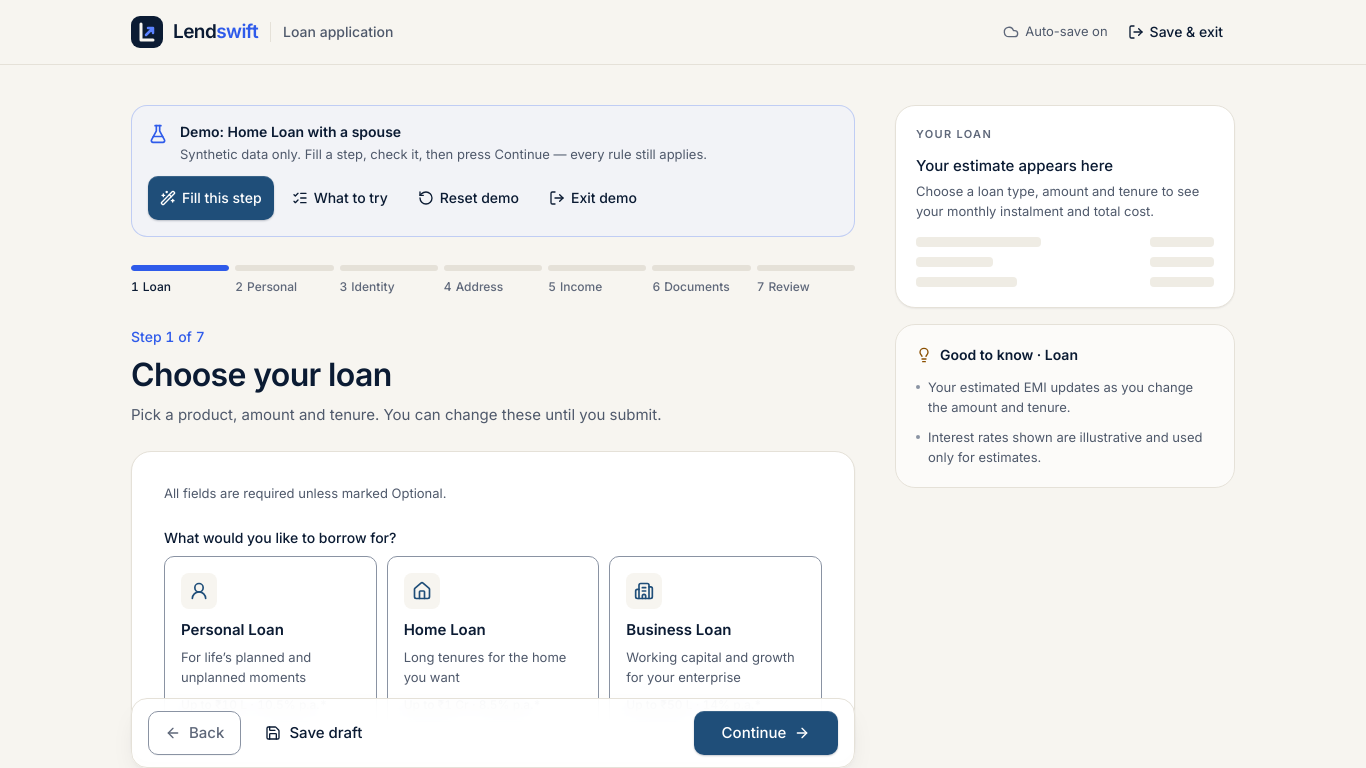
Test case: ApplicationWorkspace › shows the demo bar with its guide and a confirmed reset while a demo runs
This screenshot has width=1366, height=768.
Expected: the text "Demo: Home Loan with a spouse" is shown, left=180, top=123, right=401, bottom=140
Click the button "What to try" at [340, 198], box left=280, top=176, right=400, bottom=220
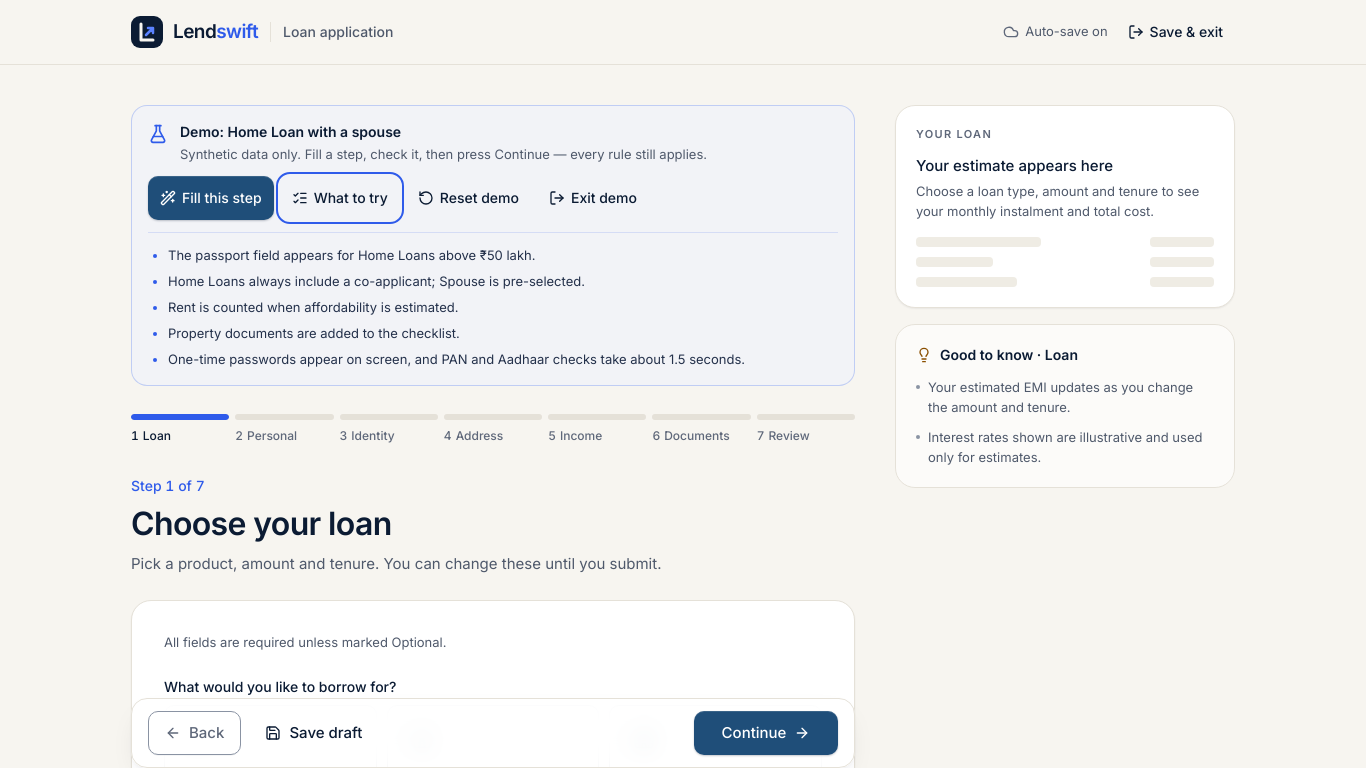
Now the list item "The passport field appears for Home Loans above ₹50 lakh." is shown, box left=168, top=247, right=536, bottom=263
Click the button "Reset demo" at [468, 198], box left=406, top=176, right=531, bottom=220
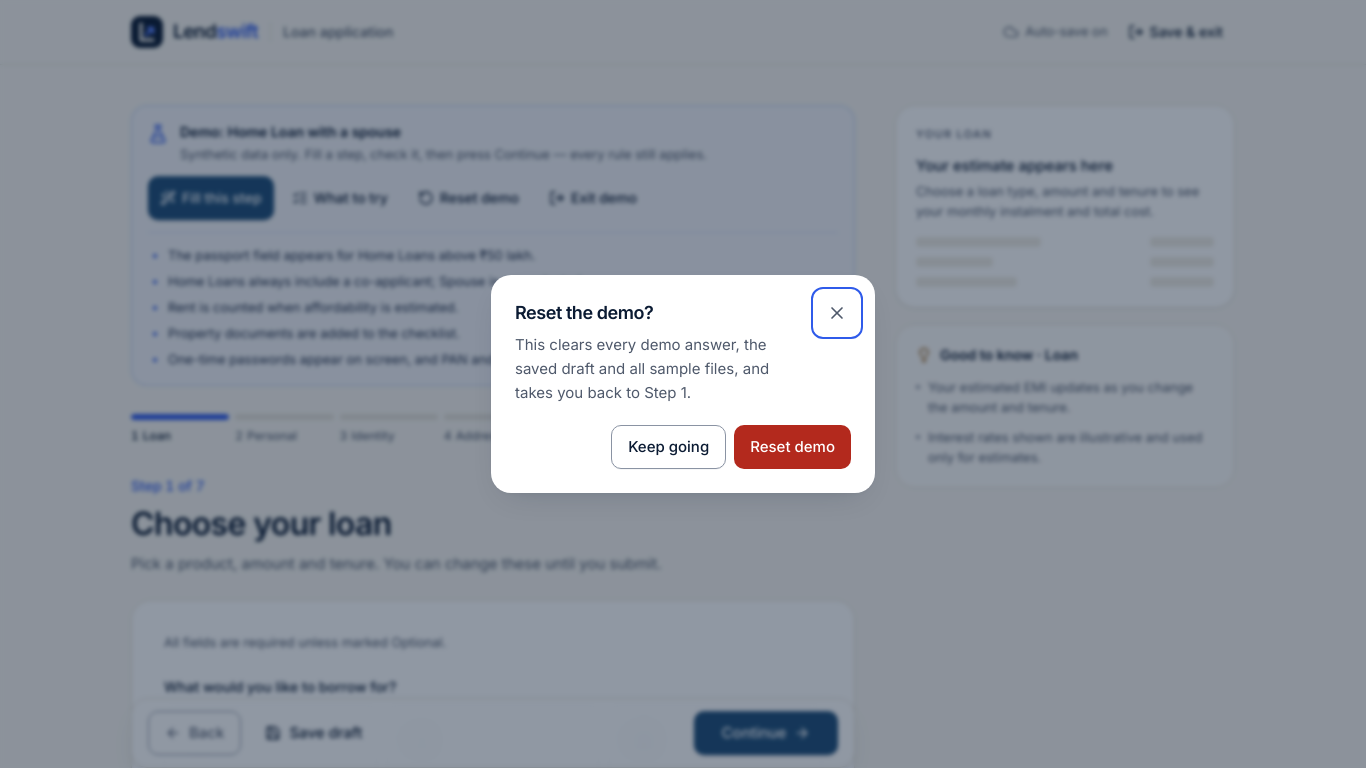
Click the button "Keep going" at [669, 447], box left=611, top=425, right=726, bottom=469
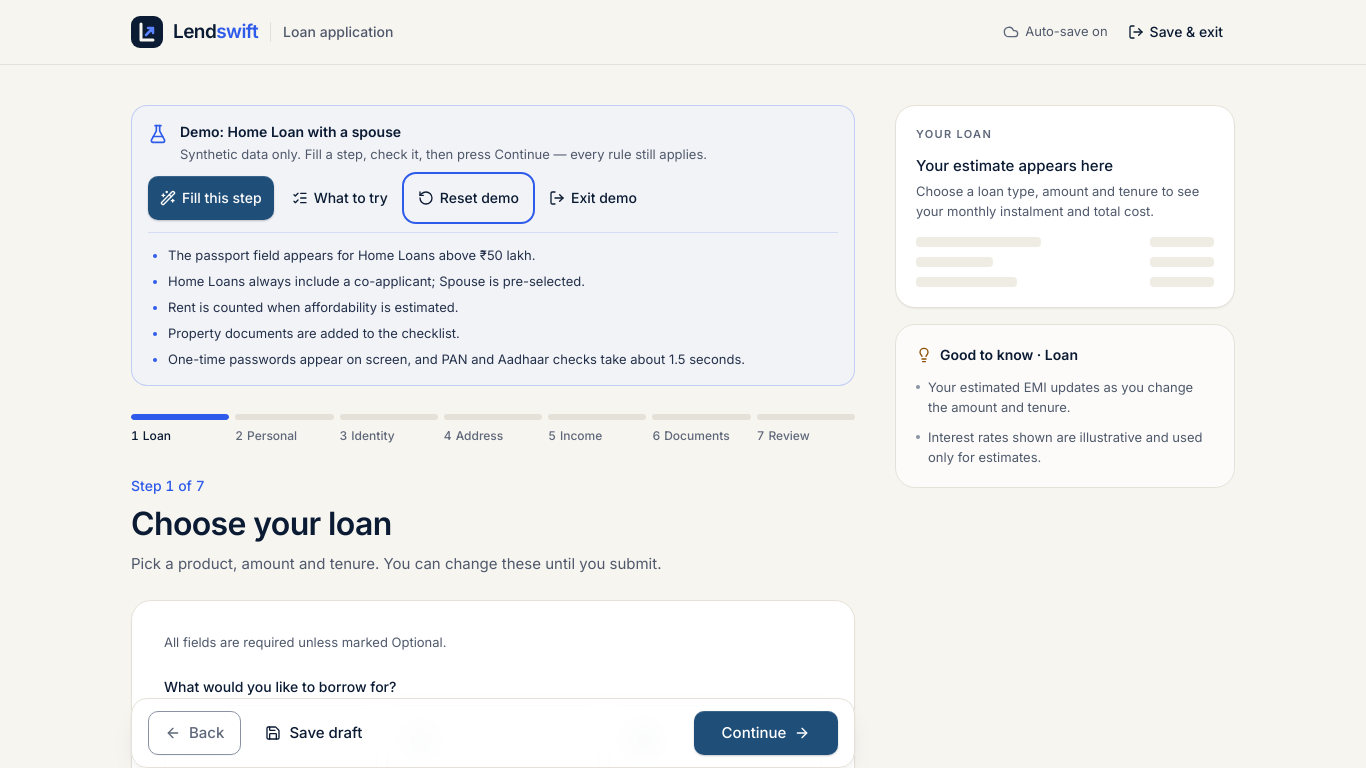
Now the dialog is gone
